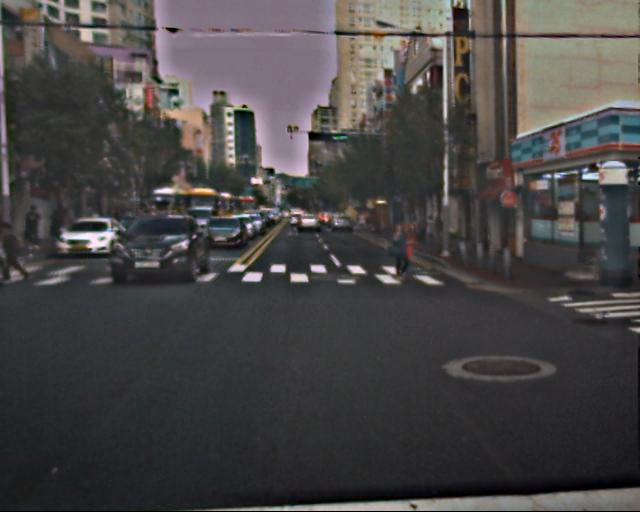person: (385, 223, 418, 286), (414, 220, 441, 245)
